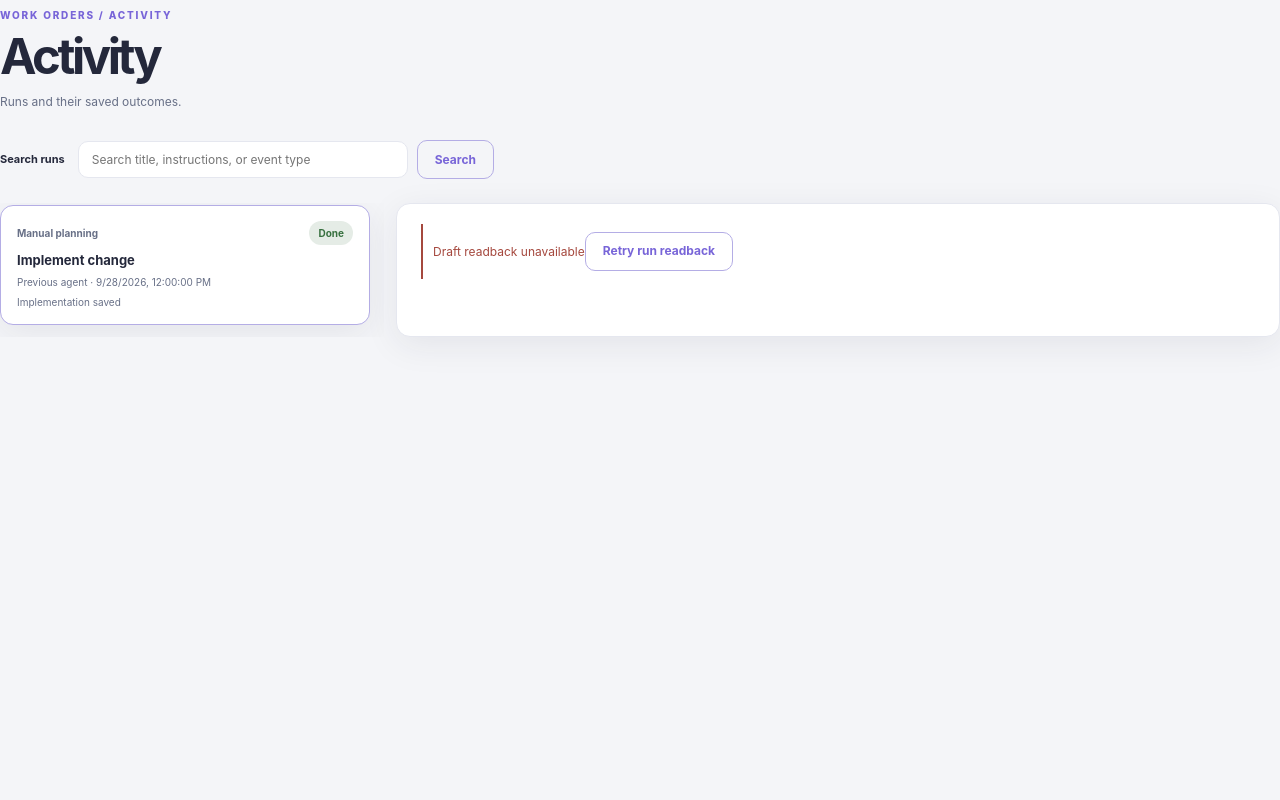
Test: does not offer create when saved draft lookup fails, and allows a readback retry
Expected: the message shows "Draft readback unavailable", [433,243,585,258]
Expected: the button "Create QA draft" is not shown
Click the button "Retry run readback" at (659, 251), box [585,232,733,270]
(page scrolled)
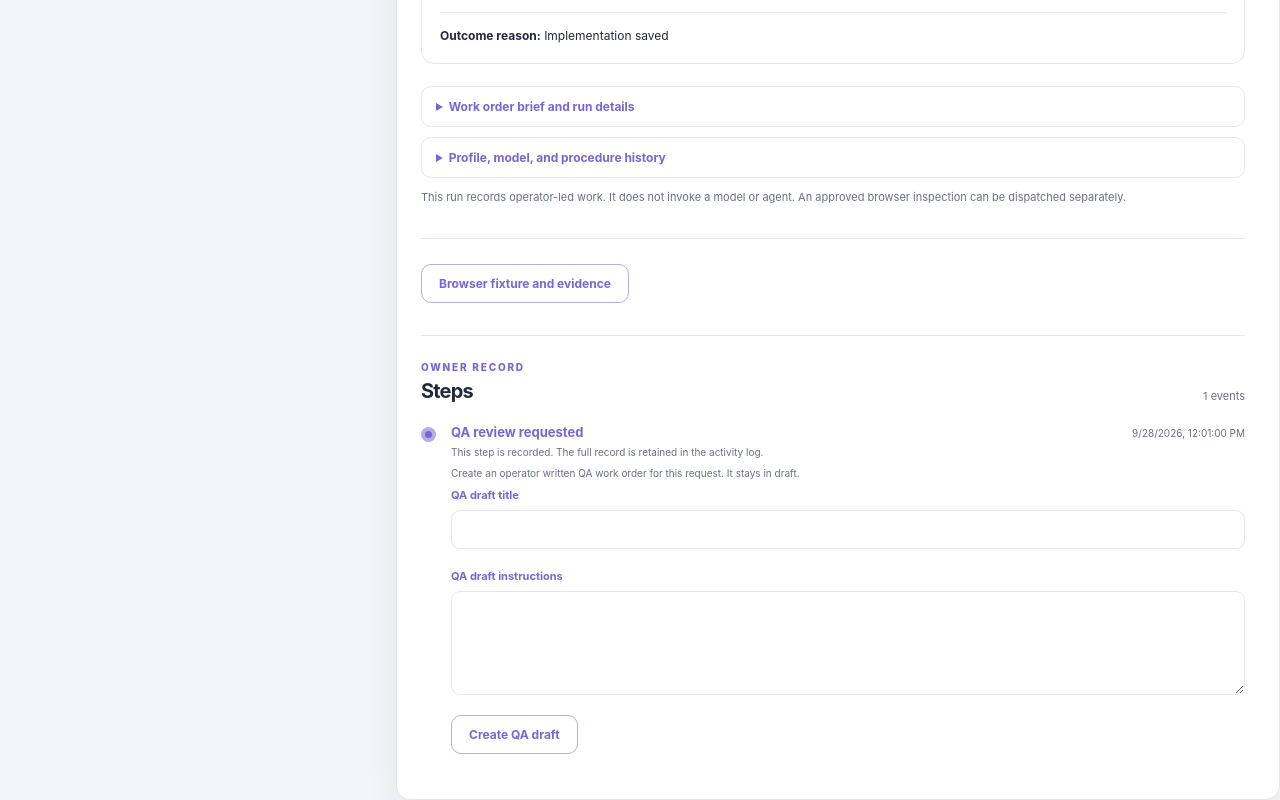
Result: the button "Create QA draft" is shown at [451,715,578,754]
